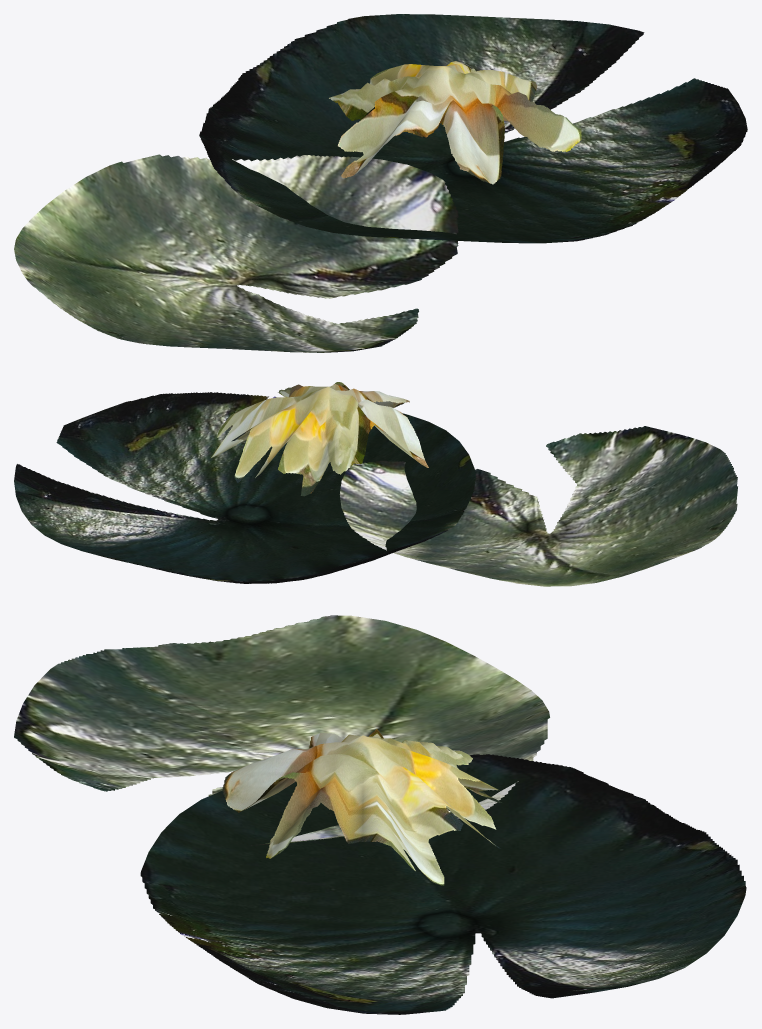
File: lily_cluster.obj
3 renders of one model, top to bottom at view 1: azimuth 30°, elevation 25°; view 2: azimuth 150°, elevation 25°; view 3: azimuth 270°, elevation 25°, orthographic. The views are drawn at different scales.
Visible parts, largest first — view 1: Photo_pad_1, Photo_pad_0, Flower_photo_relief; view 2: Photo_pad_1, Photo_pad_0, Flower_photo_relief; view 3: Photo_pad_1, Photo_pad_0, Flower_photo_relief.
Boxes of the visible parts, x1,y1,x2,y2 form: Photo_pad_1: [199, 14, 747, 243]; Photo_pad_0: [14, 154, 458, 352]; Flower_photo_relief: [329, 61, 581, 184]; Photo_pad_1: [14, 392, 475, 583]; Photo_pad_0: [339, 426, 737, 586]; Flower_photo_relief: [209, 382, 428, 496]; Photo_pad_1: [140, 754, 746, 1014]; Photo_pad_0: [14, 615, 549, 845]; Flower_photo_relief: [222, 729, 502, 885].
Bounding box in the file's own units: 24.43 × 4.48 × 19.19.
3 materials, 3 textured.
